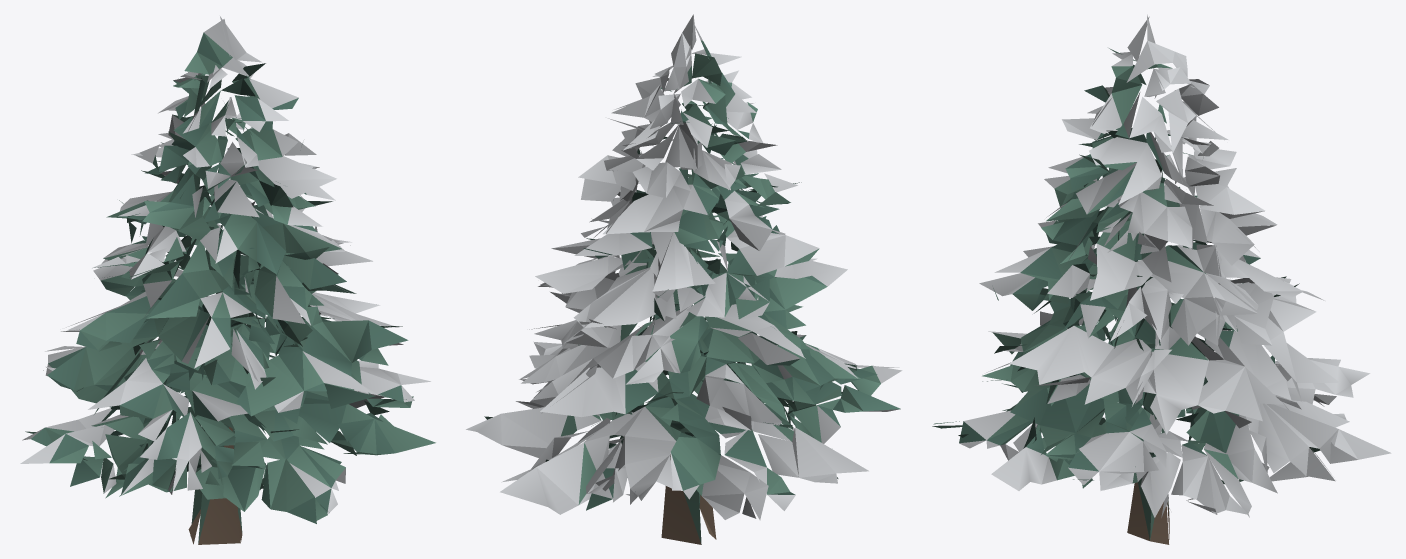
The model's file is meshy-tree-2.glb.
3 renders of one model, left to right at view 1: azimuth 30°, elevation 25°; view 2: azimuth 150°, elevation 25°; view 3: azimuth 270°, elevation 25°, orthographic. The views are drawn at different scales.
Parts seen in each view (by area): view 1: meshy_tree; view 2: meshy_tree; view 3: meshy_tree.
Part boxes in pixels (x1,y1,x2,y2): meshy_tree: [20, 16, 435, 544]; meshy_tree: [466, 14, 902, 544]; meshy_tree: [932, 14, 1391, 544].
Bounding box in the file's own units: 4.33 × 5.79 × 4.65.
